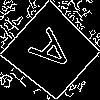A: (26, 26, 83, 83)
